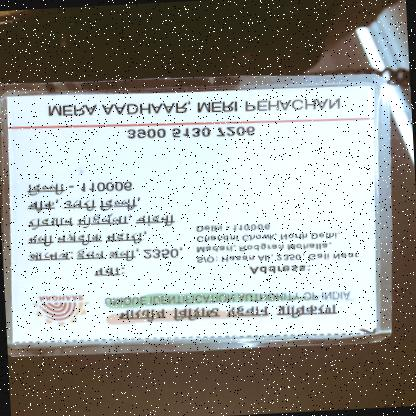aadhaar_card: (0, 78, 392, 359)
